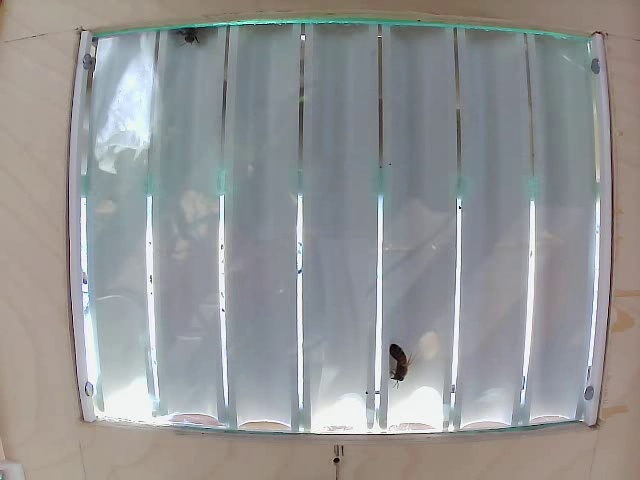bee: (384, 334, 415, 388), (178, 23, 207, 52)
